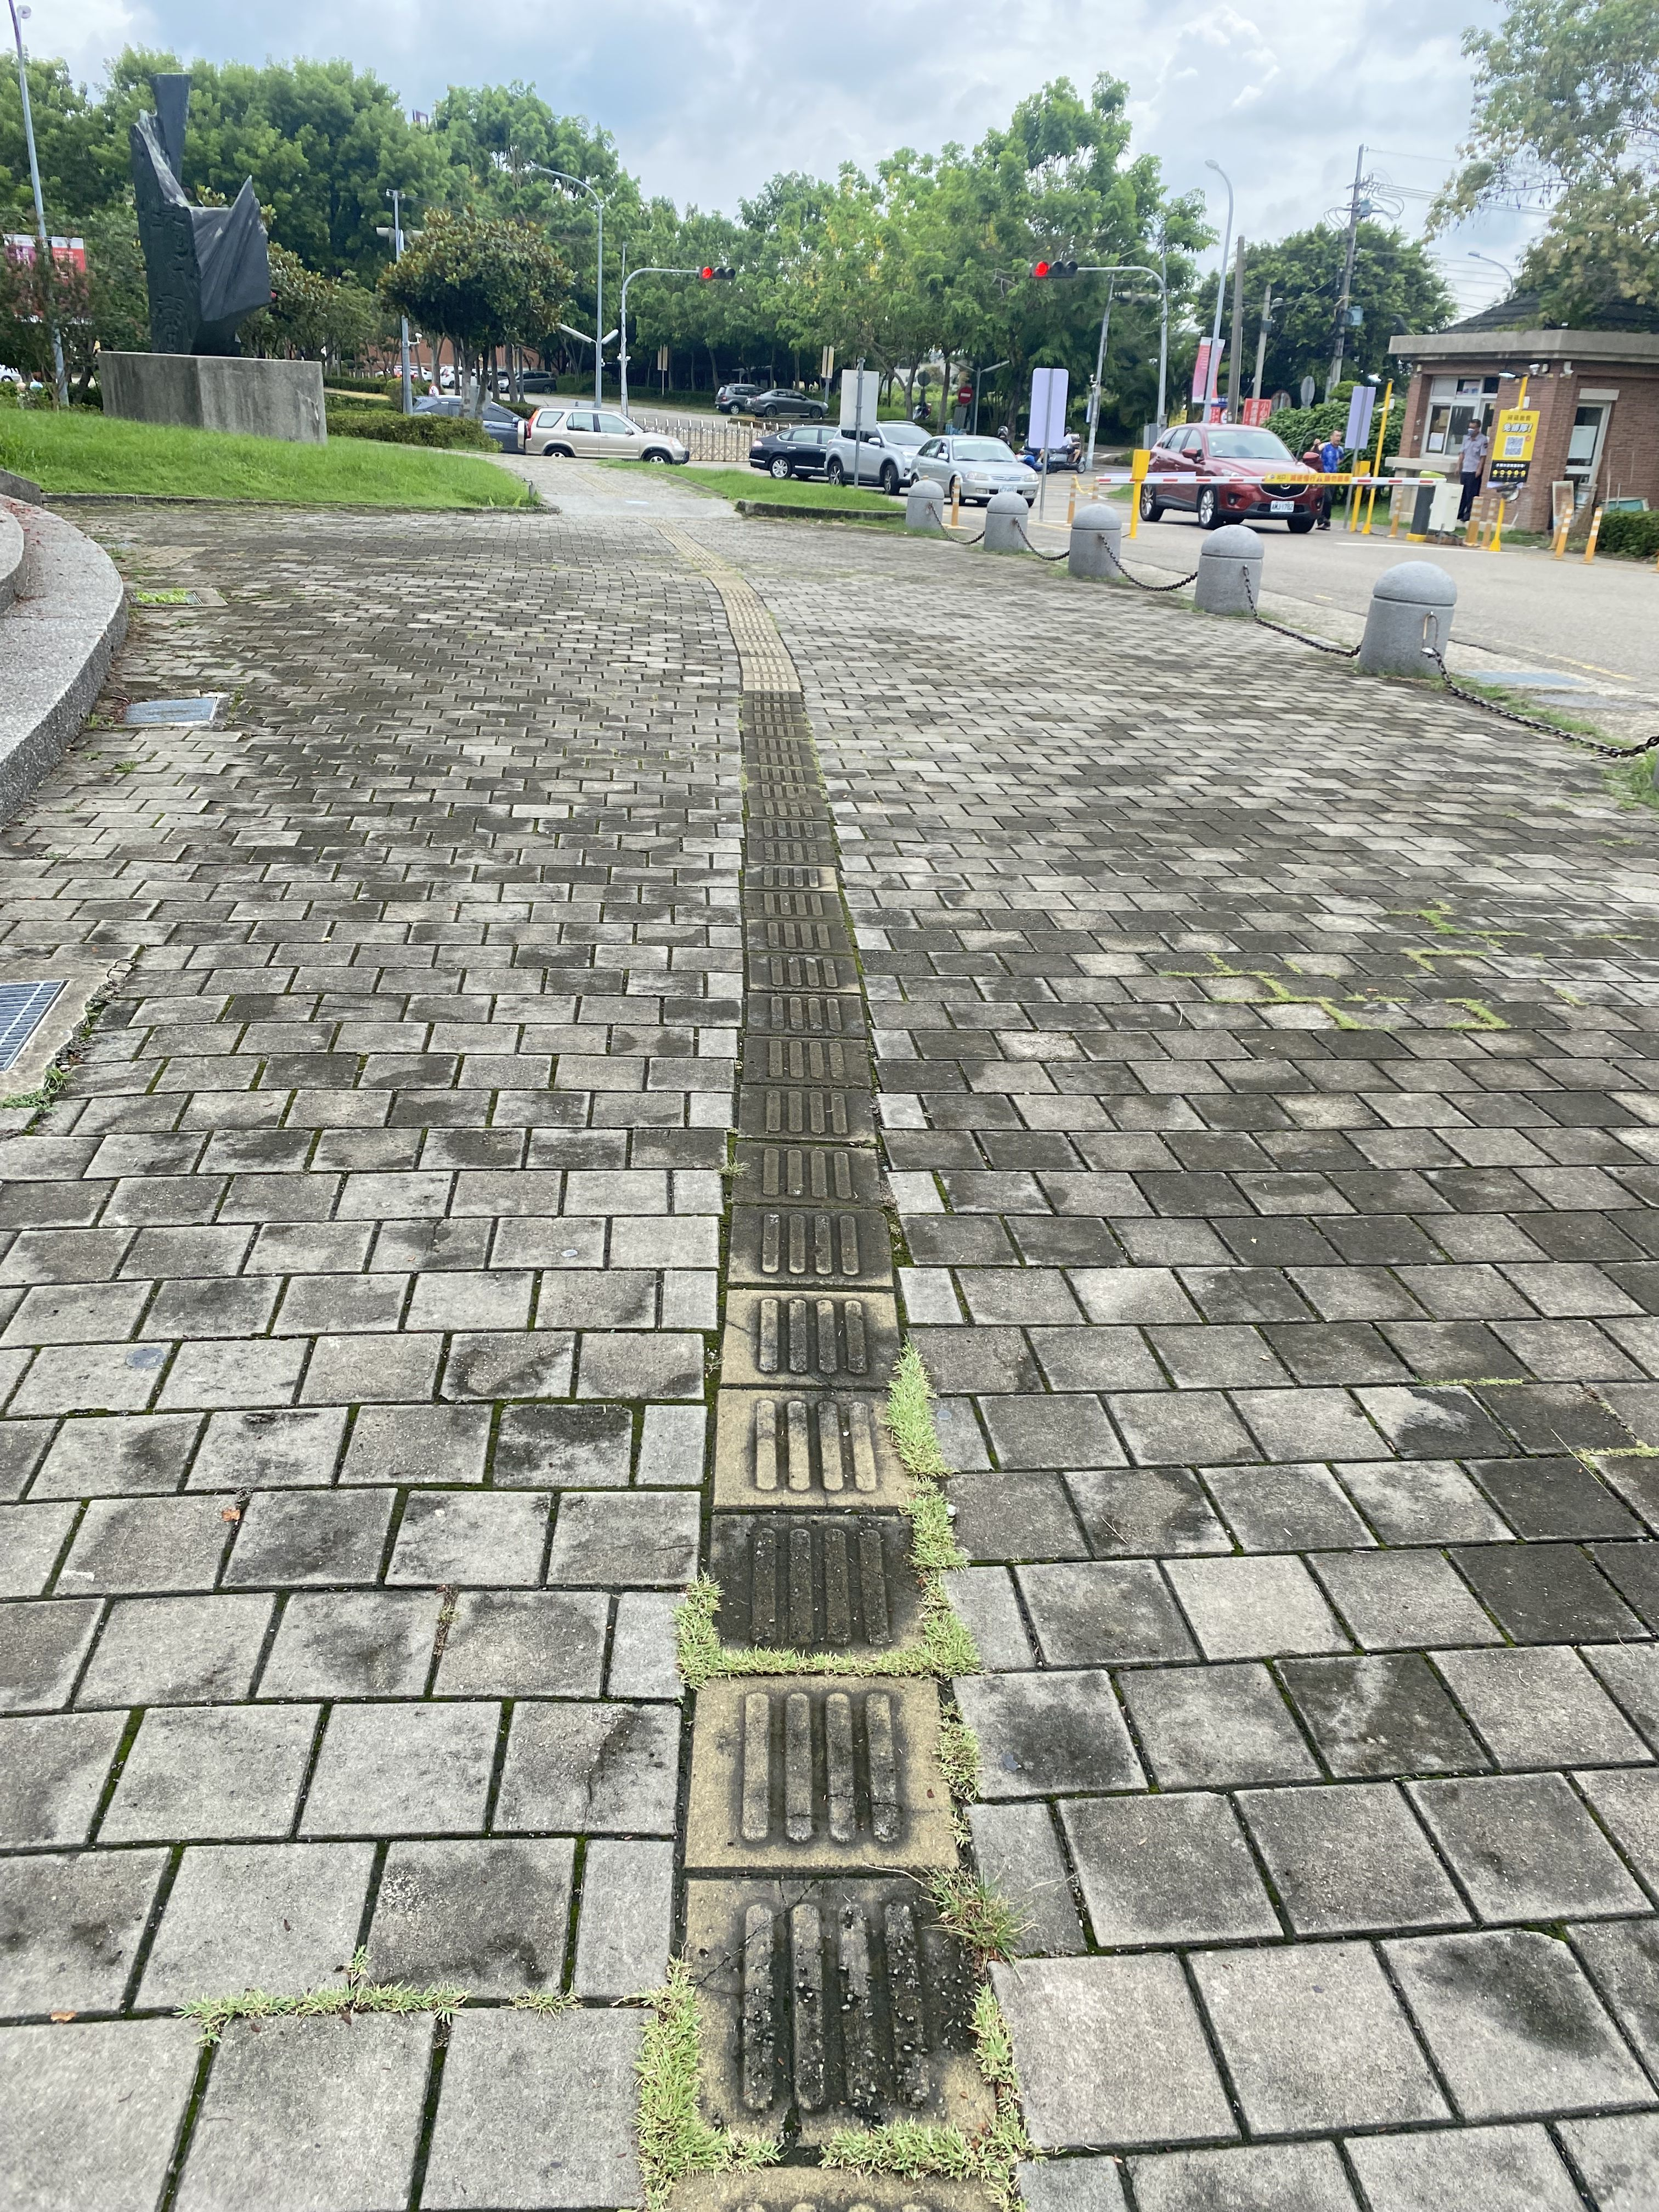sidewalk: (7, 488, 1659, 2212)
